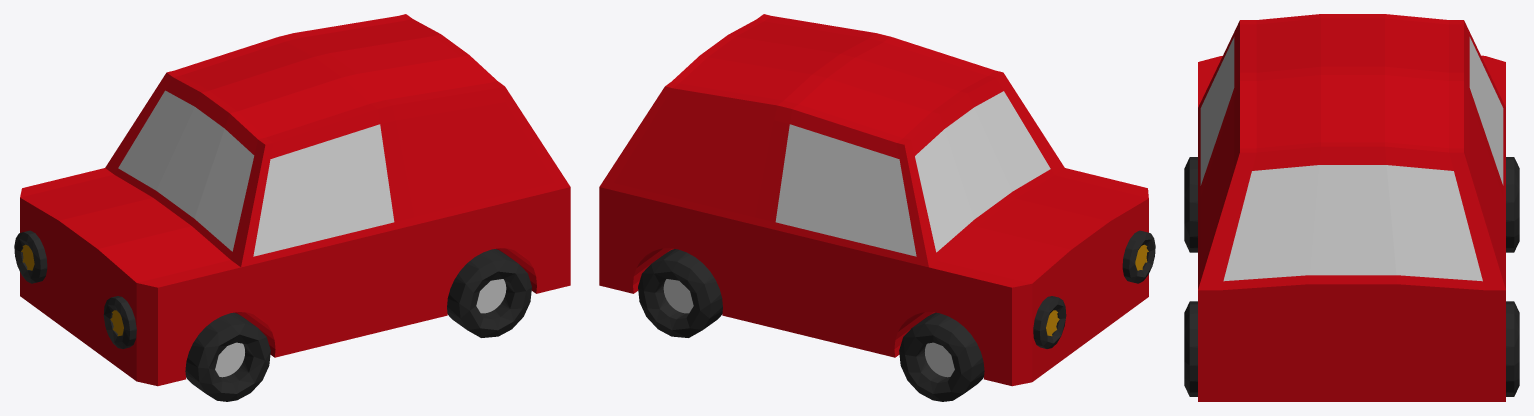
Rendered from car_2.fbx.
3 renders of one model, left to right at view 1: azimuth 30°, elevation 25°; view 2: azimuth 150°, elevation 25°; view 3: azimuth 270°, elevation 25°, orthographic. The views are drawn at different scales.
Parts seen in each view (by area): view 1: car_2, wheel_1_R.001, wheel_2_R.001; view 2: car_2, wheel_1_L.001, wheel_2_L.001; view 3: car_2, wheel_2_R.001, wheel_2_L.001, wheel_1_L.001, wheel_1_R.001.
Part boxes in pixels (bbox=[...]): car_2: bbox=[14, 14, 570, 386]; wheel_1_R.001: bbox=[185, 312, 270, 401]; wheel_2_R.001: bbox=[447, 249, 531, 337]; car_2: bbox=[599, 14, 1155, 386]; wheel_1_L.001: bbox=[899, 312, 984, 401]; wheel_2_L.001: bbox=[638, 249, 722, 337]; car_2: bbox=[1198, 14, 1505, 401]; wheel_2_R.001: bbox=[1184, 301, 1197, 396]; wheel_2_L.001: bbox=[1506, 301, 1519, 396]; wheel_1_L.001: bbox=[1506, 157, 1519, 252]; wheel_1_R.001: bbox=[1184, 157, 1197, 252].
Bounding box in the file's own units: 351 × 187 × 208.
